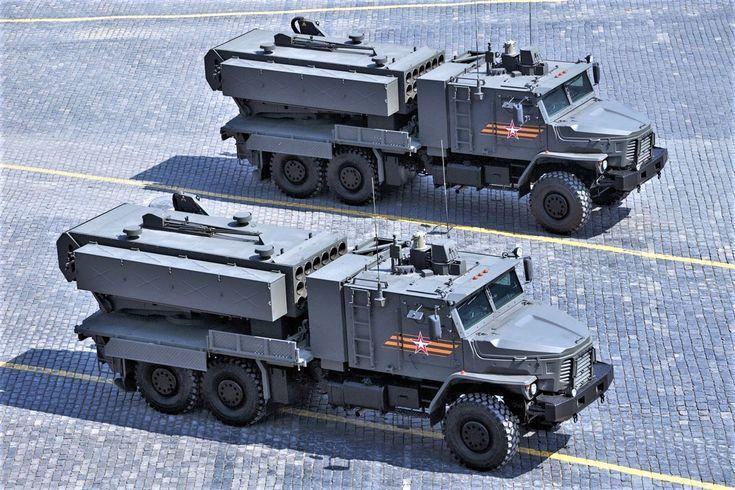truck: (61, 190, 625, 474), (208, 15, 682, 238)
